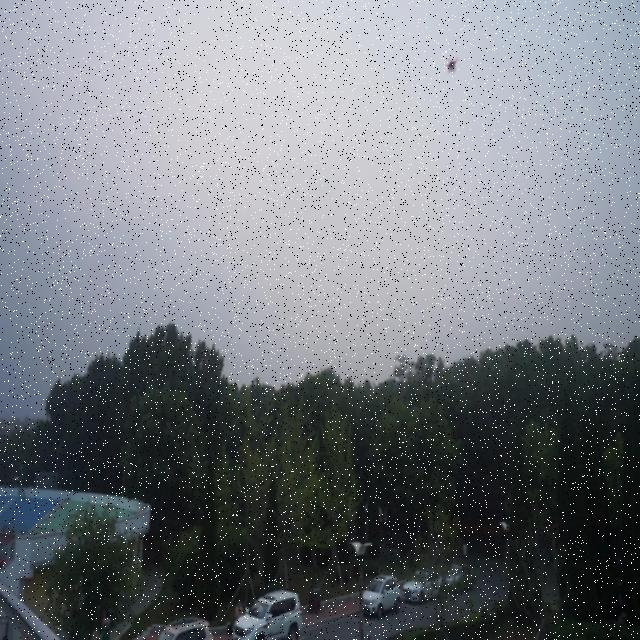UAV: (445, 56, 459, 74)
